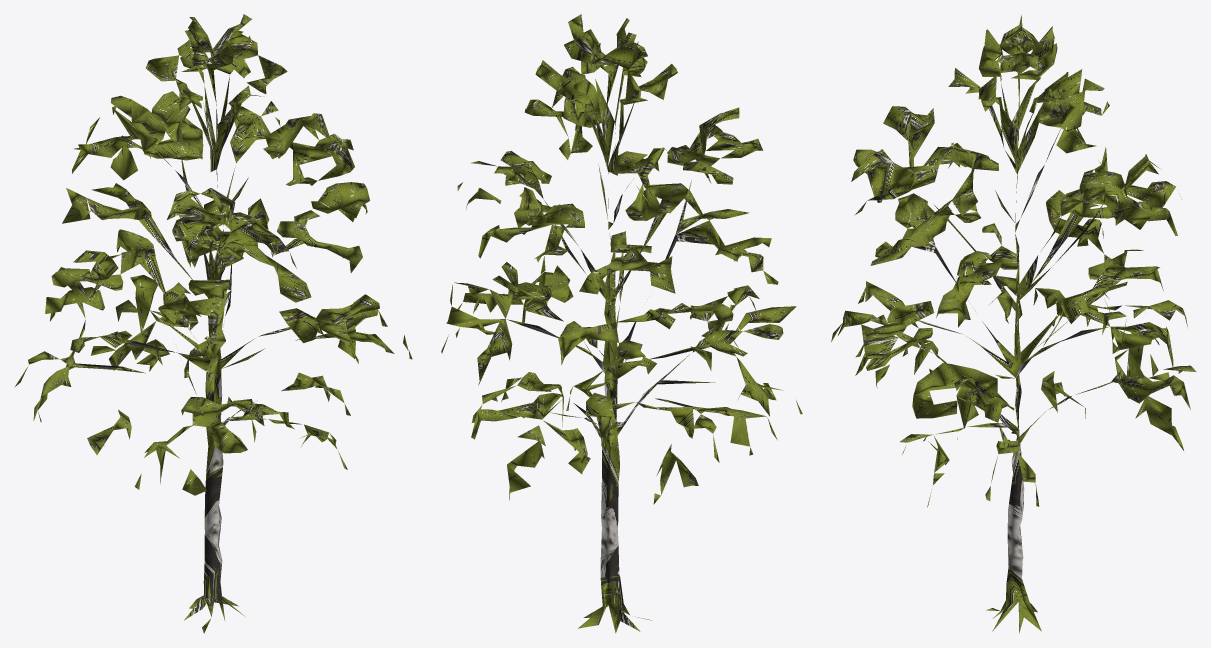
File: birch-lo.glb
The picture shows the model from 3 angles, left to right: view 1: azimuth 30°, elevation 25°; view 2: azimuth 150°, elevation 25°; view 3: azimuth 270°, elevation 25°; orthographic projection.
Bounding box in the file's own units: 3.83 × 6.39 × 3.53.
Materials: 1 (1 with a texture image).
